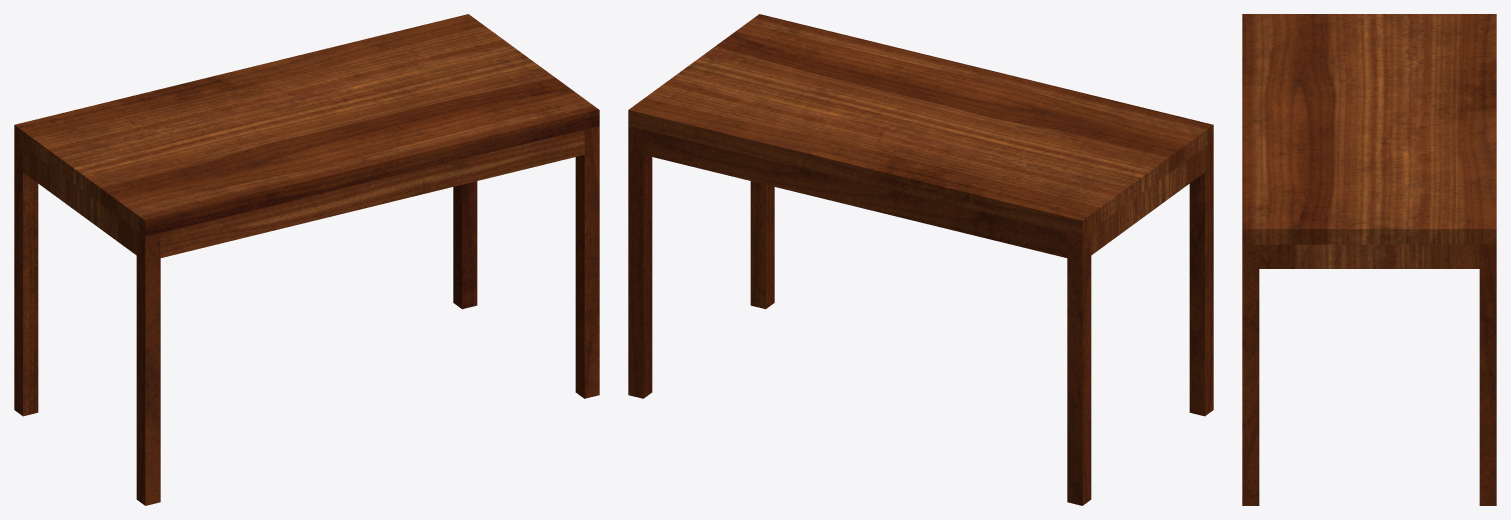
Rendered from wood_table.glb.
3 views of the same model, side by side, from view 1: azimuth 30°, elevation 25°; view 2: azimuth 150°, elevation 25°; view 3: azimuth 270°, elevation 25° (orthographic). The views are drawn at different scales.
Visible parts, largest first — view 1: table3:polySurface1; view 2: table3:polySurface1; view 3: table3:polySurface1.
Part boxes in pixels (x1=…): table3:polySurface1: x1=14, y1=14, x2=599, y2=505; table3:polySurface1: x1=628, y1=14, x2=1213, y2=505; table3:polySurface1: x1=1242, y1=14, x2=1496, y2=505.
Size of the model in its own units: 2 by 1.2 by 1.
Materials: 1 (1 with a texture image).
